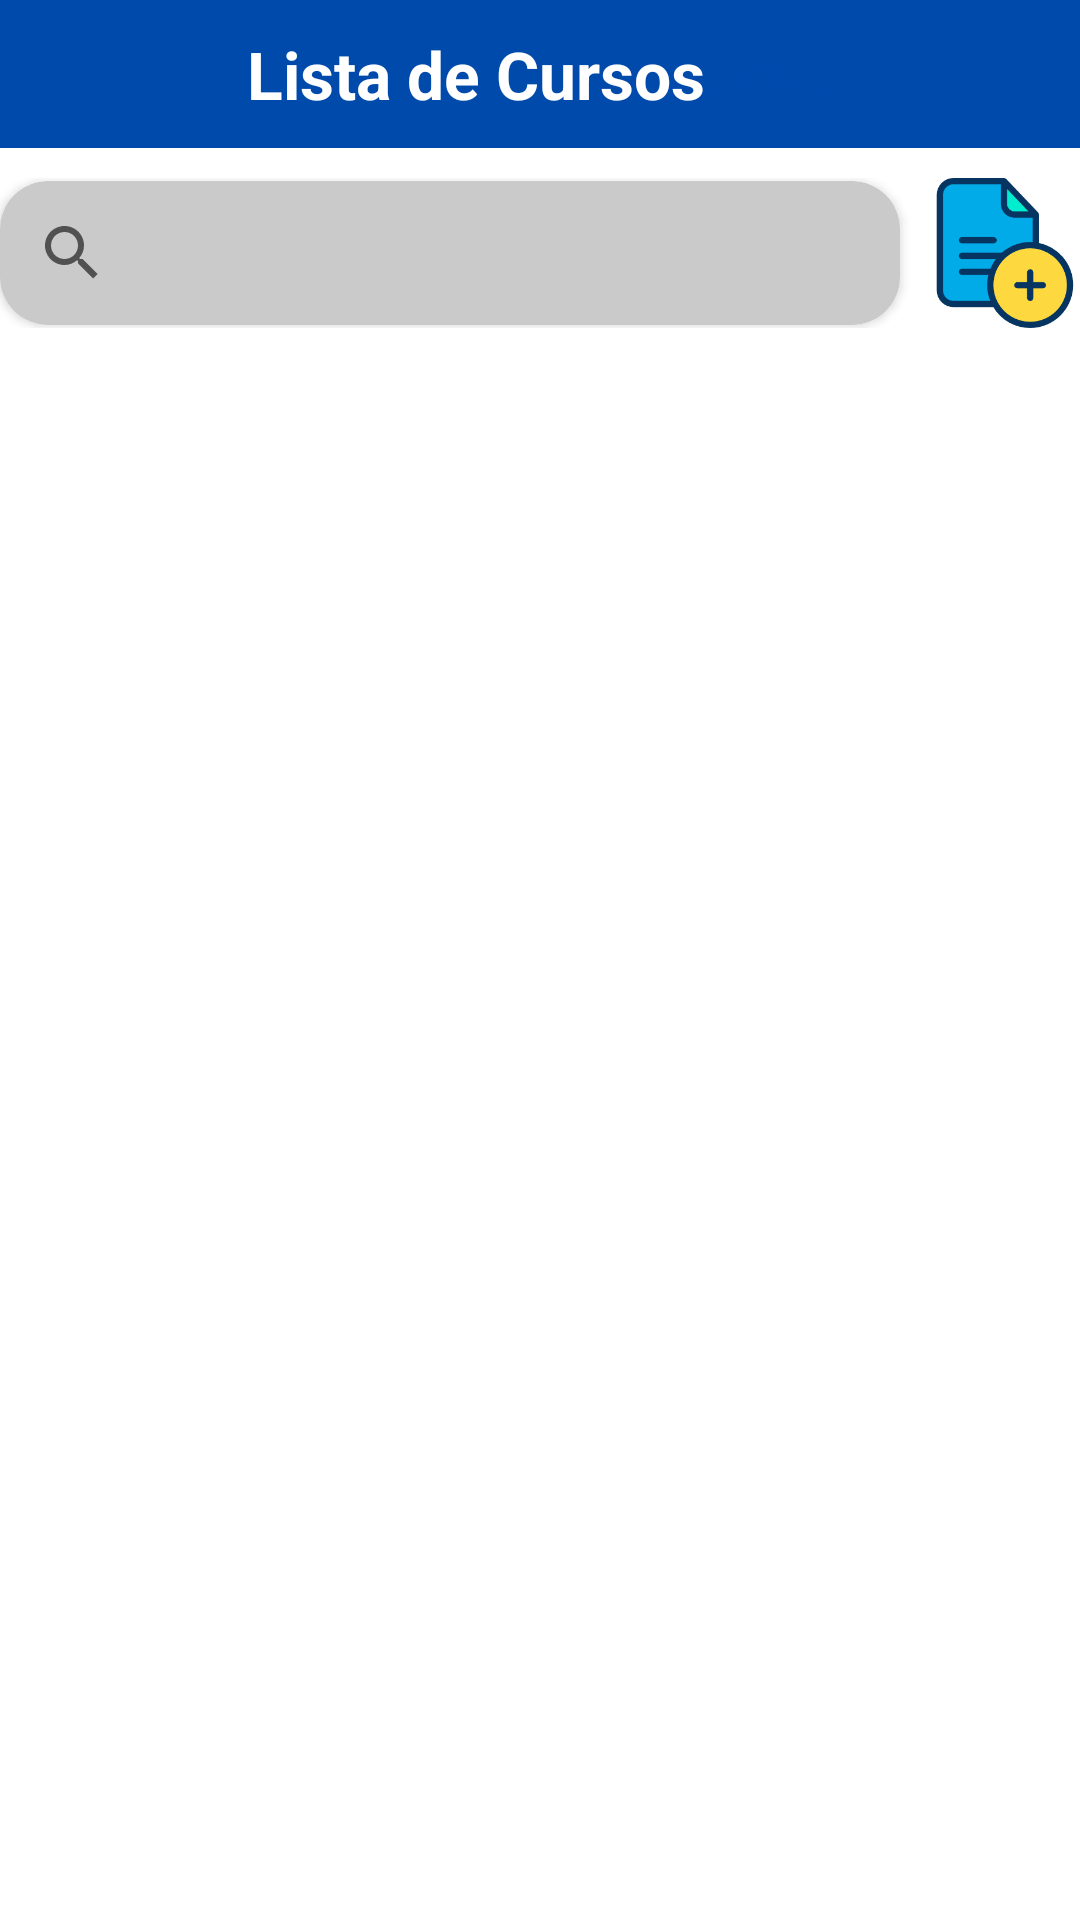

Icons on this 1080 × 1920 Android screen, each with its box as detection(x1, y1, x2, y2):
cursonuevo: detection(936, 178, 1074, 328)
